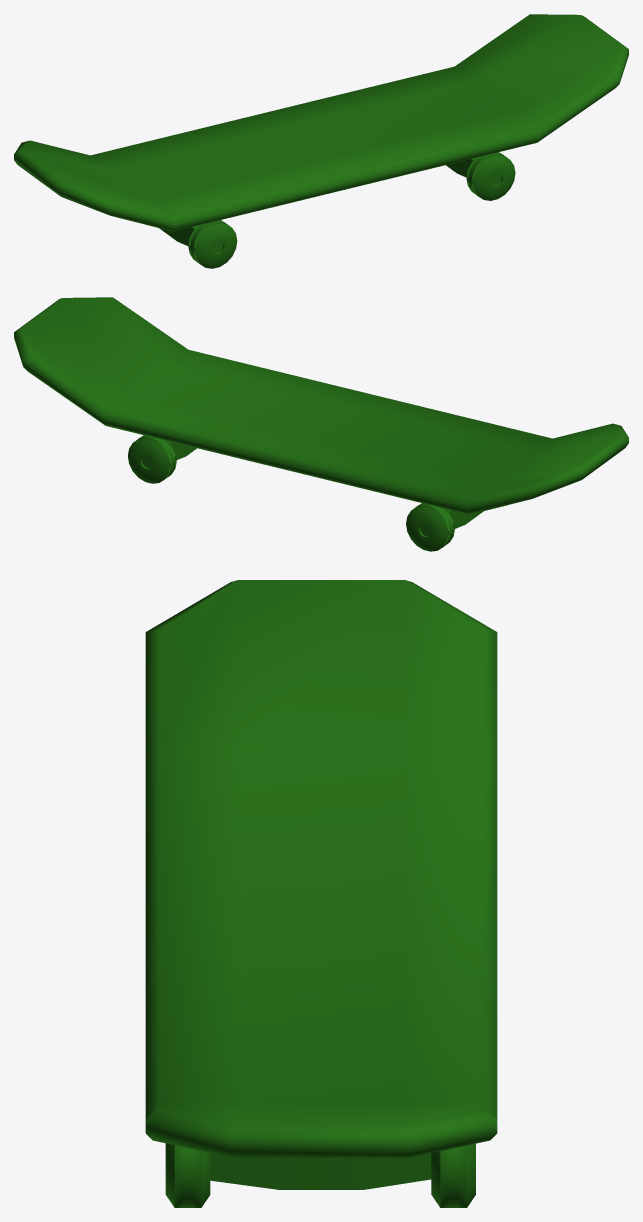
Rendered from Skate verde.FBX.
The picture shows the model from 3 angles, top to bottom: view 1: azimuth 30°, elevation 25°; view 2: azimuth 150°, elevation 25°; view 3: azimuth 270°, elevation 25°; orthographic projection. The views are drawn at different scales.
Visible parts, largest first — view 1: Skate; view 2: Skate; view 3: Skate.
Boxes of the visible parts, x1,y1,x2,y2 form: Skate: (14,14,628,268); Skate: (14,297,628,551); Skate: (145,580,497,1207).
Bounding box in the file's own units: 0.376 × 0.1006 × 0.0684.
